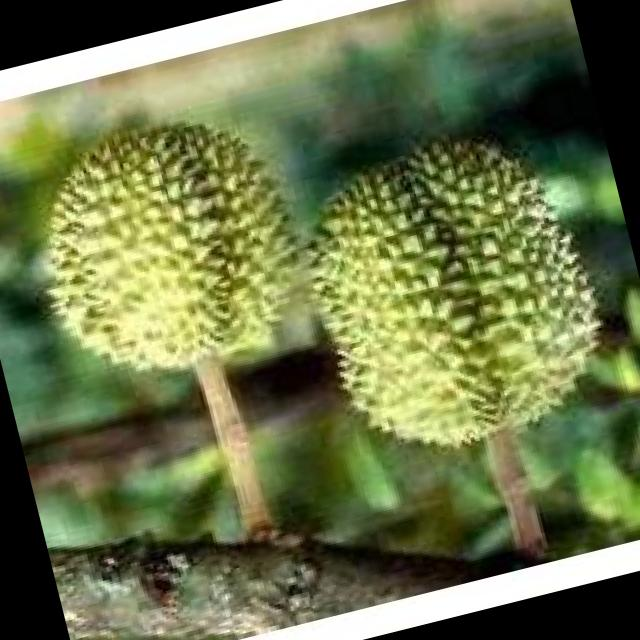fruit: (216, 56, 640, 531), (0, 54, 363, 432)
